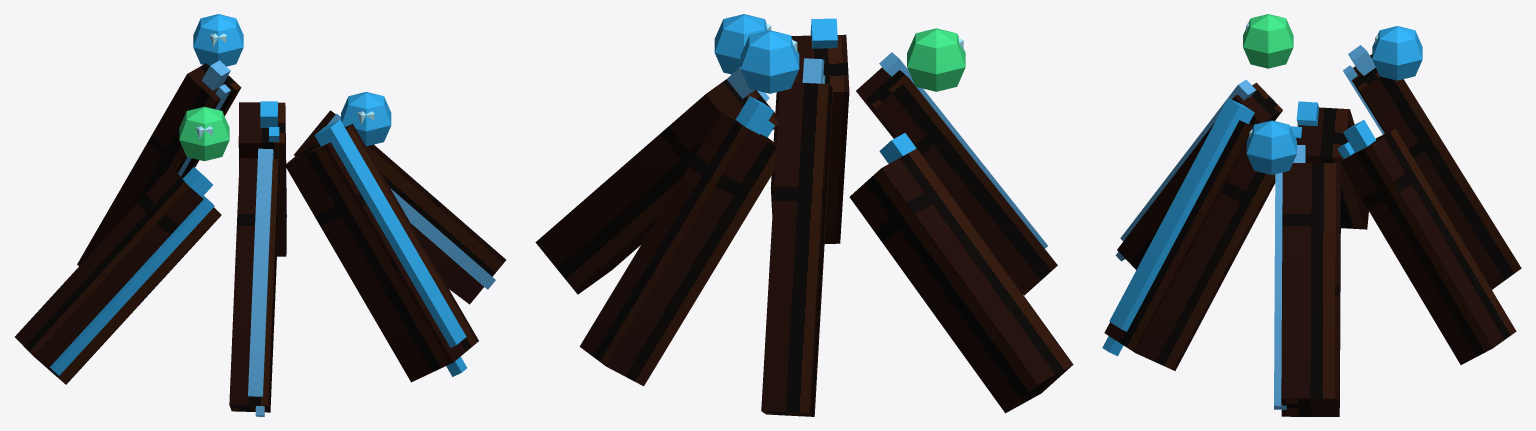
The model's file is glowroot_cluster.glb.
The picture shows the model from 3 angles, left to right: view 1: azimuth 30°, elevation 25°; view 2: azimuth 150°, elevation 25°; view 3: azimuth 270°, elevation 25°; orthographic projection. The views are drawn at different scales.
Visible parts, largest first — view 1: glowroot_cluster; view 2: glowroot_cluster; view 3: glowroot_cluster.
Boxes of the visible parts, box(x1,y1,x2,y2) form: glowroot_cluster: box(15, 14, 505, 416); glowroot_cluster: box(535, 14, 1073, 416); glowroot_cluster: box(1102, 14, 1521, 416).
Bounding box in the file's own units: 2.16 × 1.34 × 1.73.
Materials: 2 (1 with a texture image).
